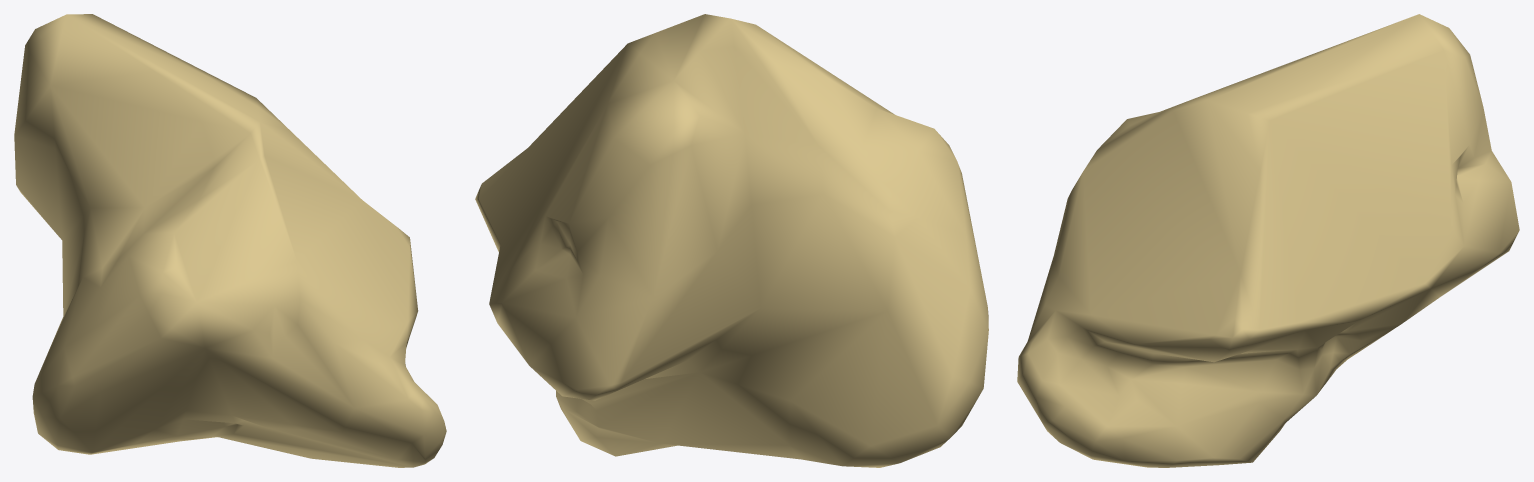
3 renders of one model, left to right at view 1: azimuth 30°, elevation 25°; view 2: azimuth 150°, elevation 25°; view 3: azimuth 270°, elevation 25°, orthographic. The views are drawn at different scales.
Visible parts, largest first — view 1: 右侧大多角骨; view 2: 右侧大多角骨; view 3: 右侧大多角骨.
Boxes of the visible parts, x1,y1,x2,y2 form: 右侧大多角骨: [14, 14, 446, 467]; 右侧大多角骨: [475, 14, 988, 467]; 右侧大多角骨: [1017, 14, 1519, 467].
Bounding box in the file's own units: 0.026 × 0.0258 × 0.0306.
